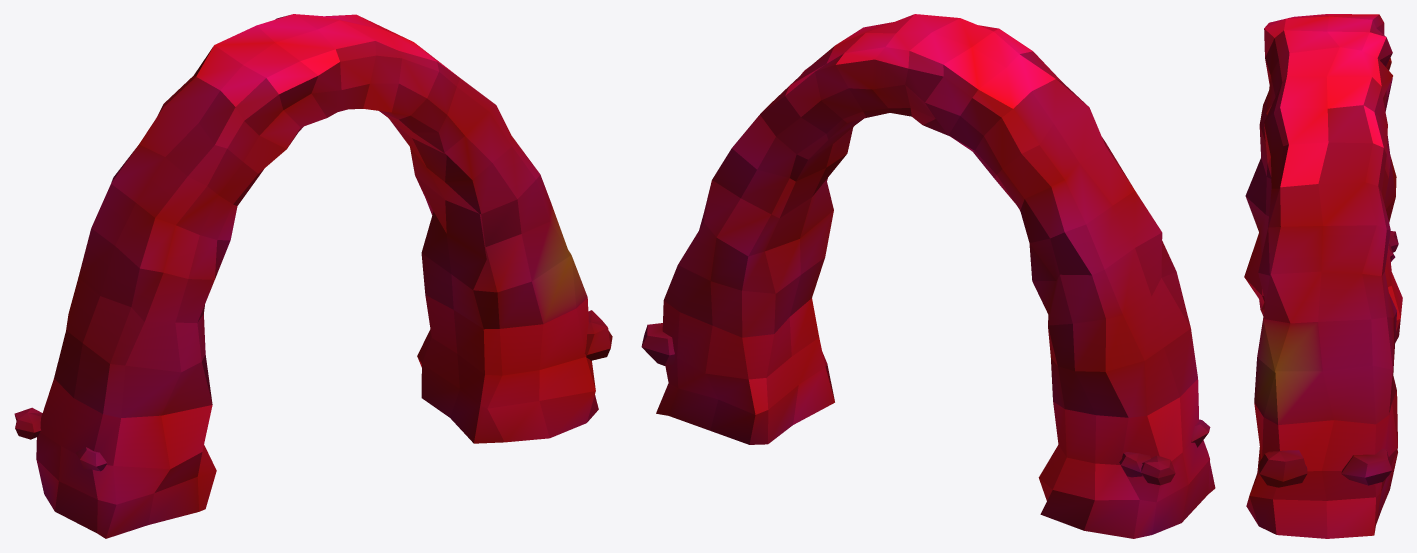
Rendered from Rock_Arch_01.fbx.
3 views of the same model, side by side, from view 1: azimuth 30°, elevation 25°; view 2: azimuth 150°, elevation 25°; view 3: azimuth 270°, elevation 25° (orthographic). The views are drawn at different scales.
Visible parts, largest first — view 1: Rock_Arch_01; view 2: Rock_Arch_01; view 3: Rock_Arch_01.
Part boxes in pixels (x1=…): Rock_Arch_01: x1=14, y1=14, x2=612, y2=538; Rock_Arch_01: x1=641, y1=14, x2=1215, y2=538; Rock_Arch_01: x1=1244, y1=14, x2=1402, y2=538.
Size of the model in its own units: 22.66 by 16.9 by 6.2.
